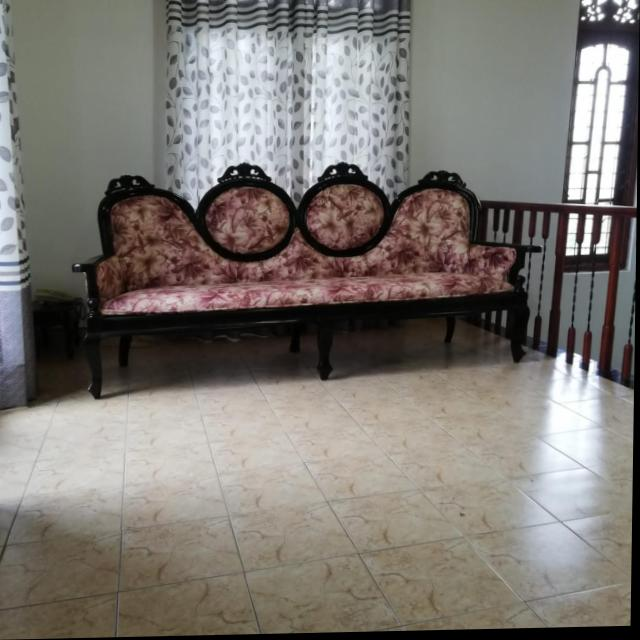Sofa: (68, 158, 545, 401)
